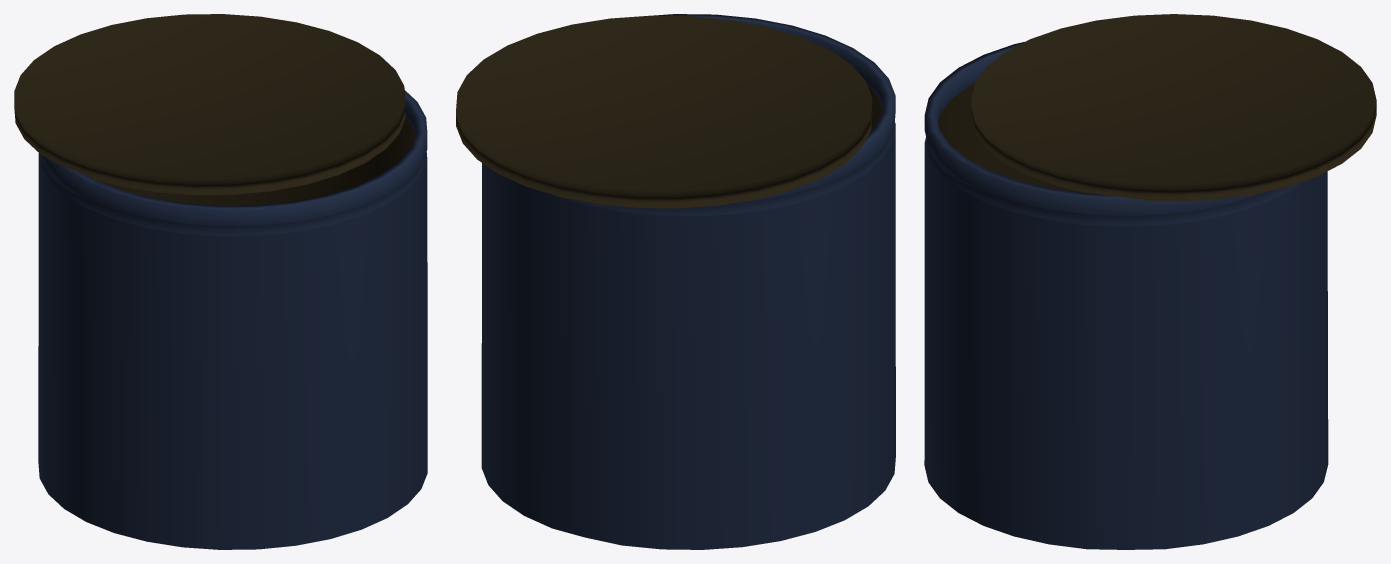
File: trashcan_tier4.fbx
3 renders of one model, left to right at view 1: azimuth 30°, elevation 25°; view 2: azimuth 150°, elevation 25°; view 3: azimuth 270°, elevation 25°, orthographic. The views are drawn at different scales.
Parts seen in each view (by area): view 1: Cylinder, Cylinder.001; view 2: Cylinder, Cylinder.001; view 3: Cylinder, Cylinder.001.
Part boxes in pixels (<box>): Cylinder: <box>38,90,427,549</box>; Cylinder.001: <box>14,14,405,195</box>; Cylinder: <box>481,14,895,549</box>; Cylinder.001: <box>456,15,872,208</box>; Cylinder: <box>924,42,1328,549</box>; Cylinder.001: <box>971,14,1376,201</box>.
Bounding box in the file's own units: 0.6707 × 0.6683 × 0.7479.
